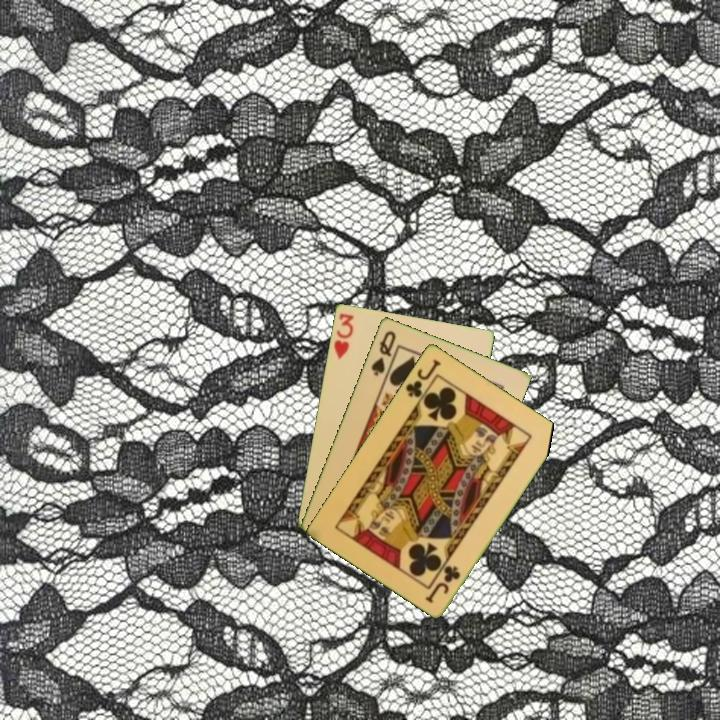3h: (330, 309, 357, 361)
Jc: (402, 355, 443, 406), (422, 561, 463, 606)
Qs: (367, 327, 399, 379)
